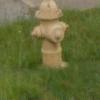Hydrant: (23, 0, 73, 81)
